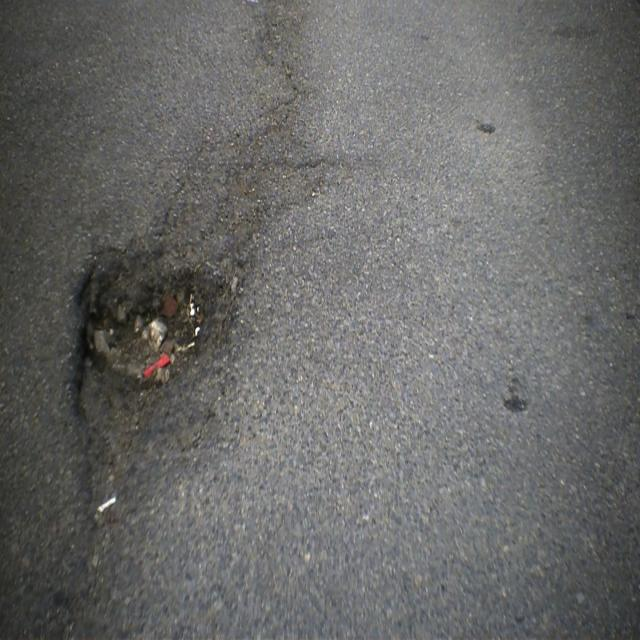Pothole: (69, 242, 245, 544)
